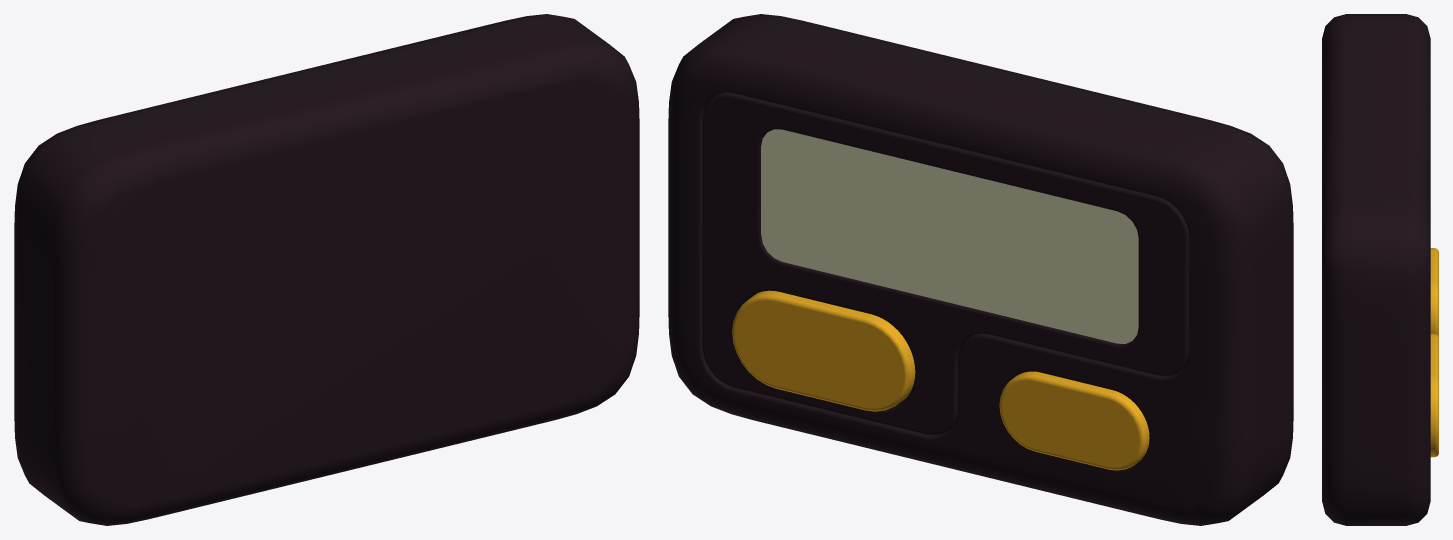
Rendered from timer.fbx.
The picture shows the model from 3 angles, left to right: view 1: azimuth 30°, elevation 25°; view 2: azimuth 150°, elevation 25°; view 3: azimuth 270°, elevation 25°; orthographic projection. The views are drawn at different scales.
Parts seen in each view (by area): view 1: Body_high; view 2: Body_high, Screen_high, StartButton_high, ResetButton_high; view 3: Body_high, StartButton_high, ResetButton_high.
Part boxes in pixels (box(x1,y1,x2,y2)): Body_high: box(14, 14, 639, 525); Body_high: box(668, 14, 1293, 525); Screen_high: box(761, 129, 1138, 343); StartButton_high: box(732, 290, 915, 411); ResetButton_high: box(999, 371, 1149, 470); Body_high: box(1322, 14, 1430, 525); StartButton_high: box(1430, 333, 1438, 457); ResetButton_high: box(1430, 248, 1438, 336).
Size of the model in its own units: 11.1 by 6.74 by 2.29.
